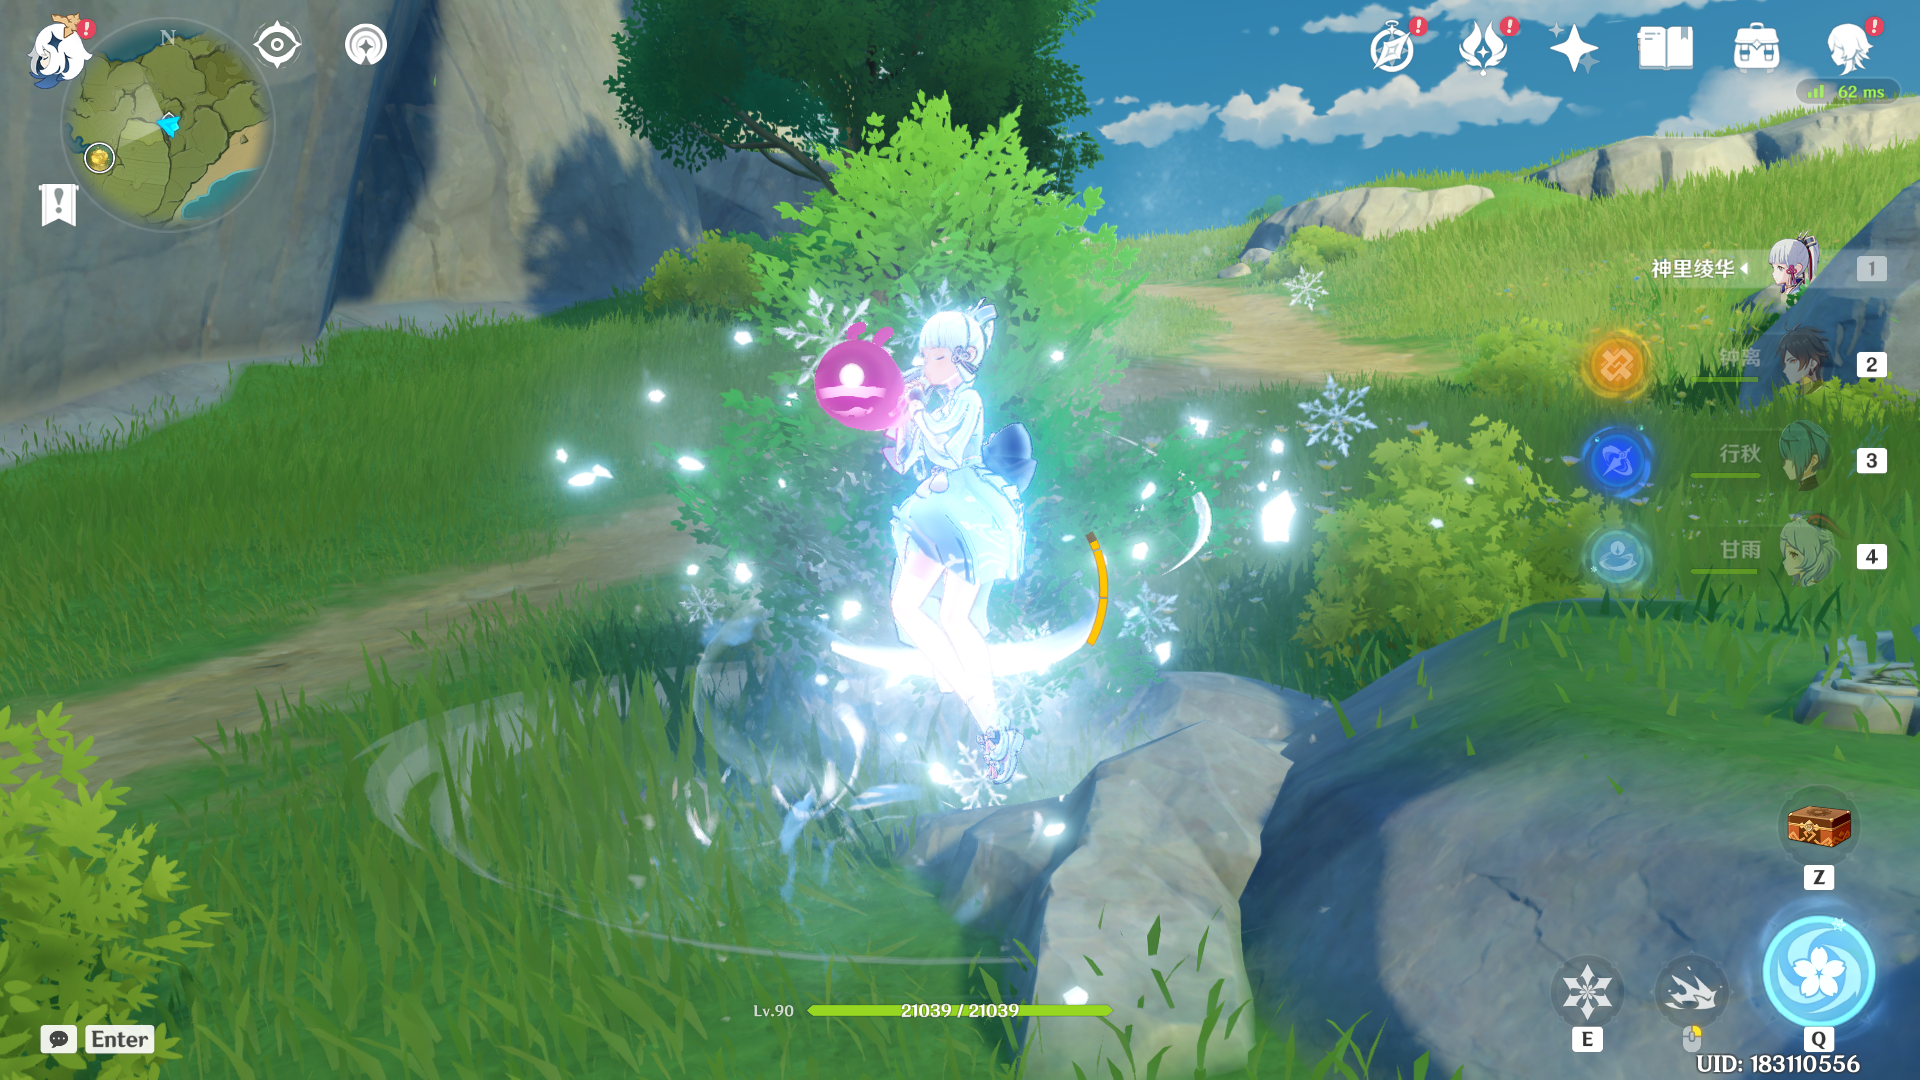character: (786, 251, 1113, 793)
